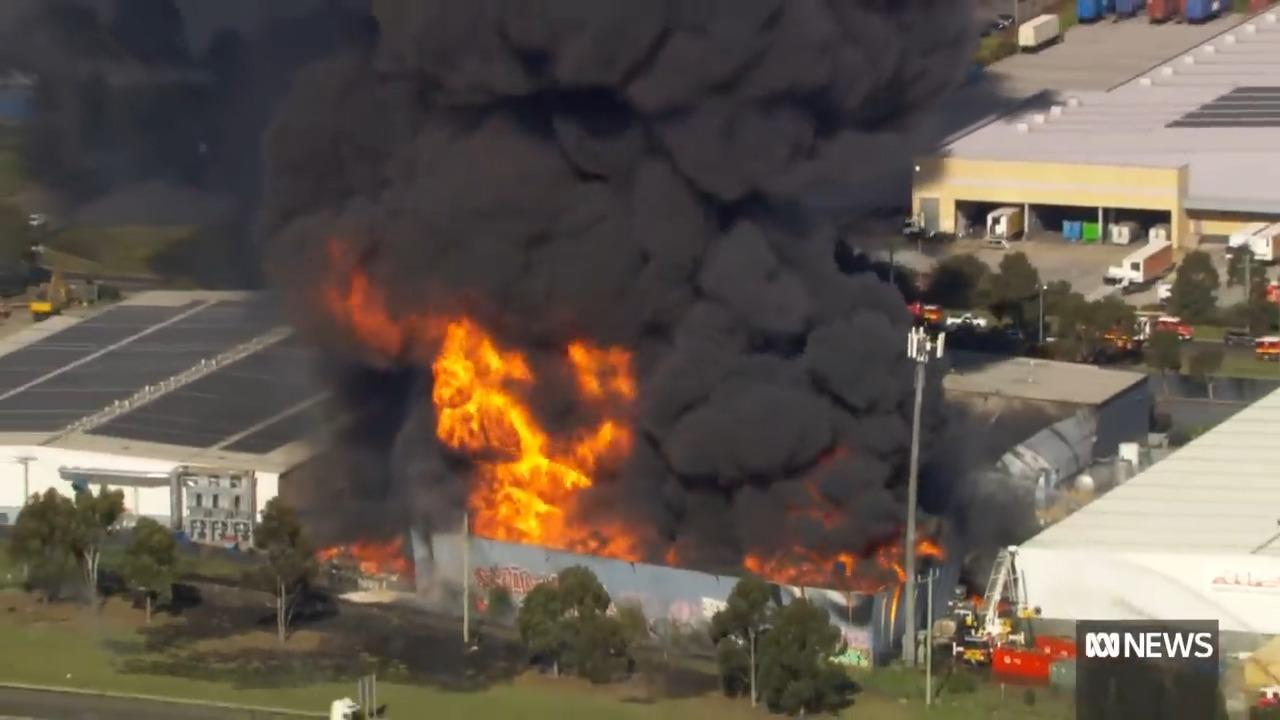fire: (402, 300, 651, 551), (329, 269, 415, 354)
